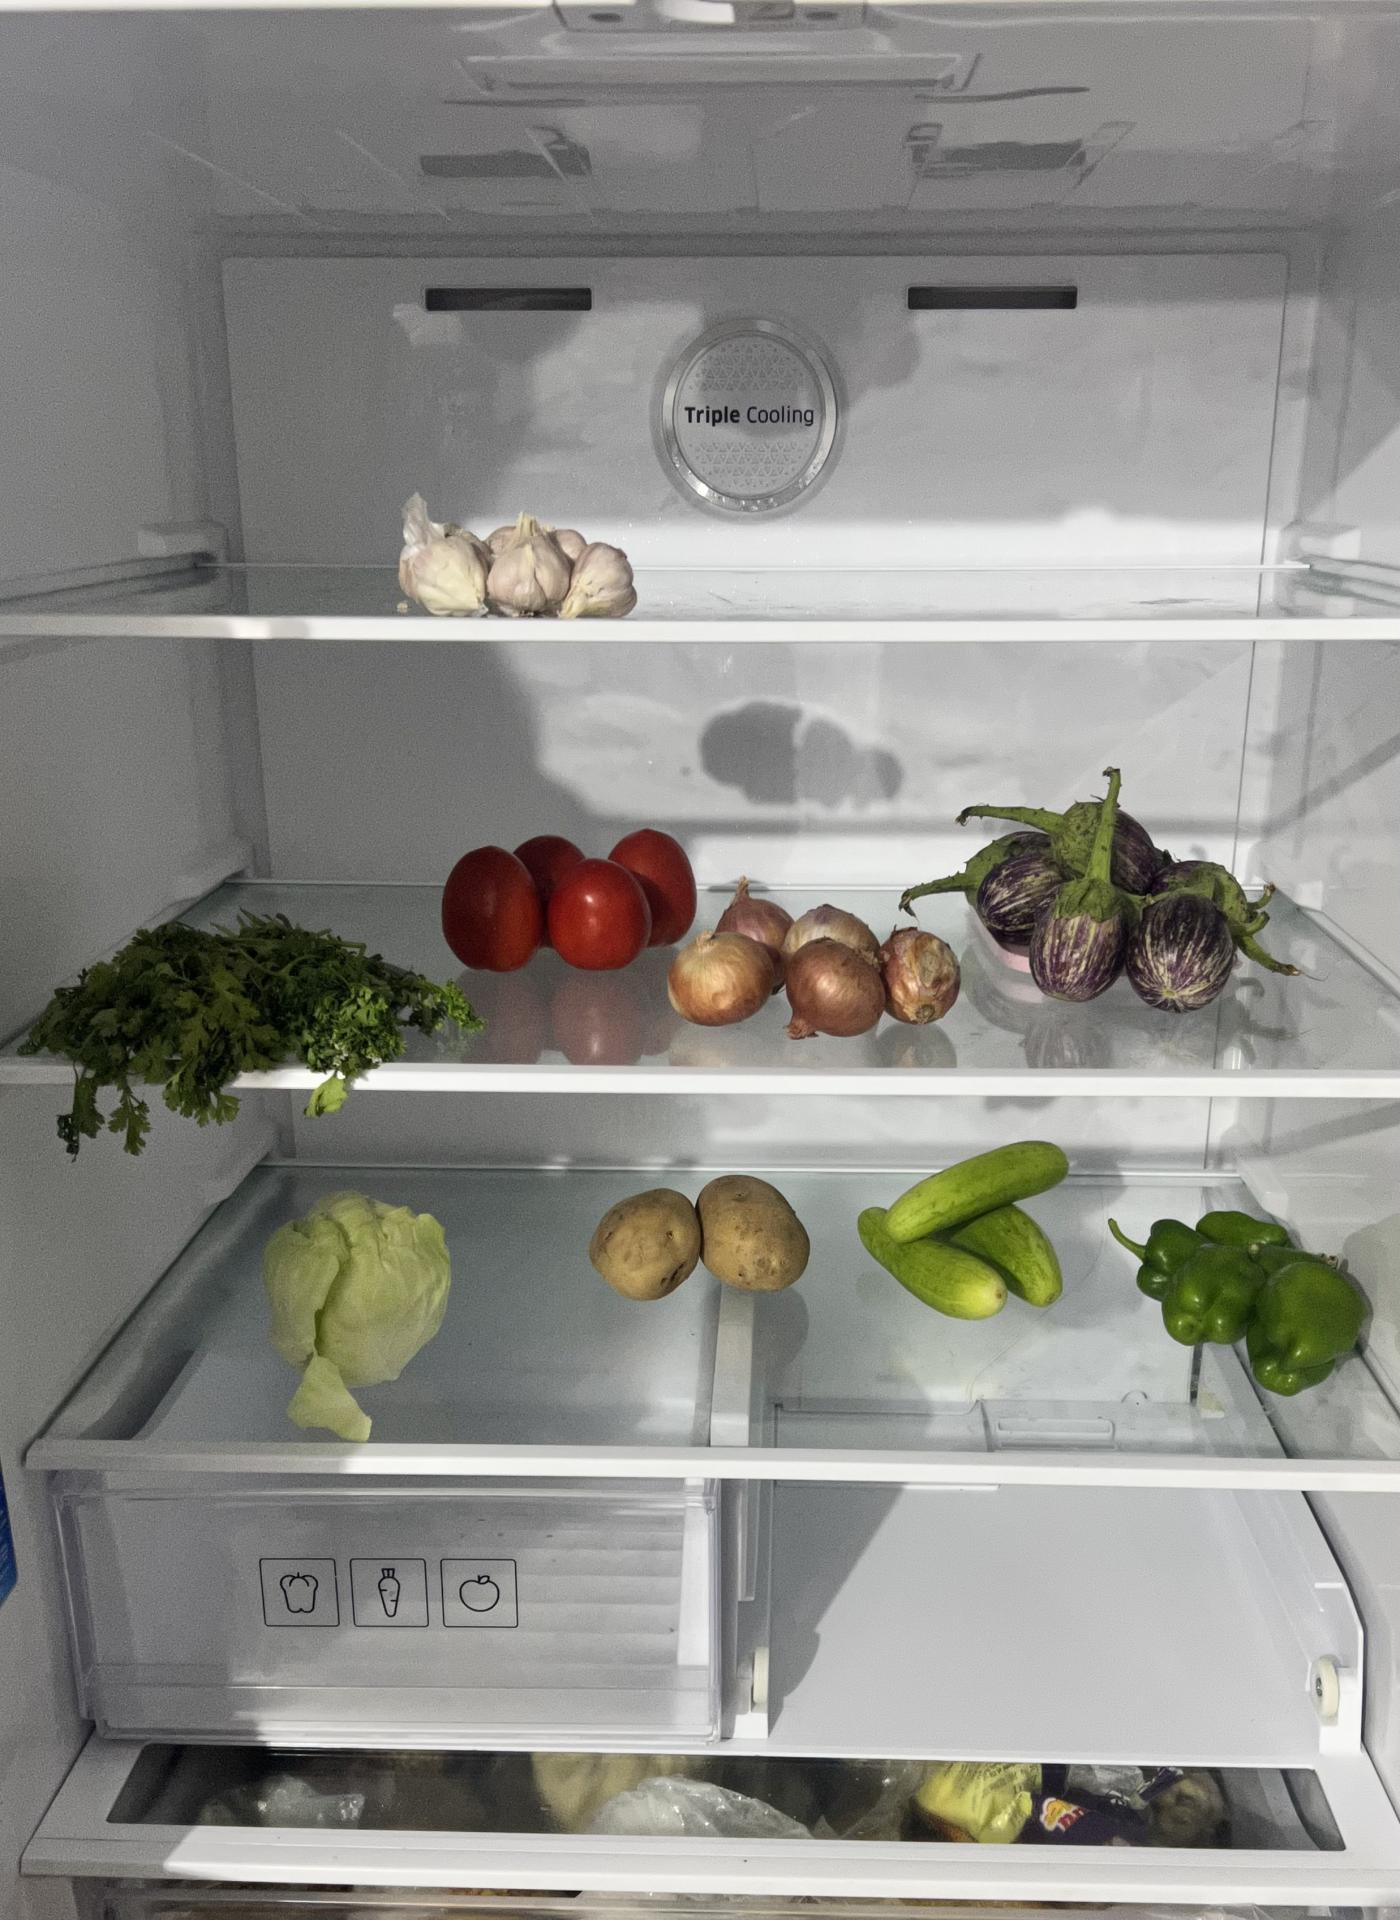brinjal: (986, 805, 1252, 1009)
cabbage: (250, 1178, 458, 1395)
capsicum: (1118, 1210, 1375, 1397)
coriander: (33, 924, 468, 1112)
cucumber: (850, 1137, 1072, 1322)
garlic: (394, 501, 637, 623)
onion: (671, 884, 962, 1032)
potato: (596, 1176, 816, 1303)
